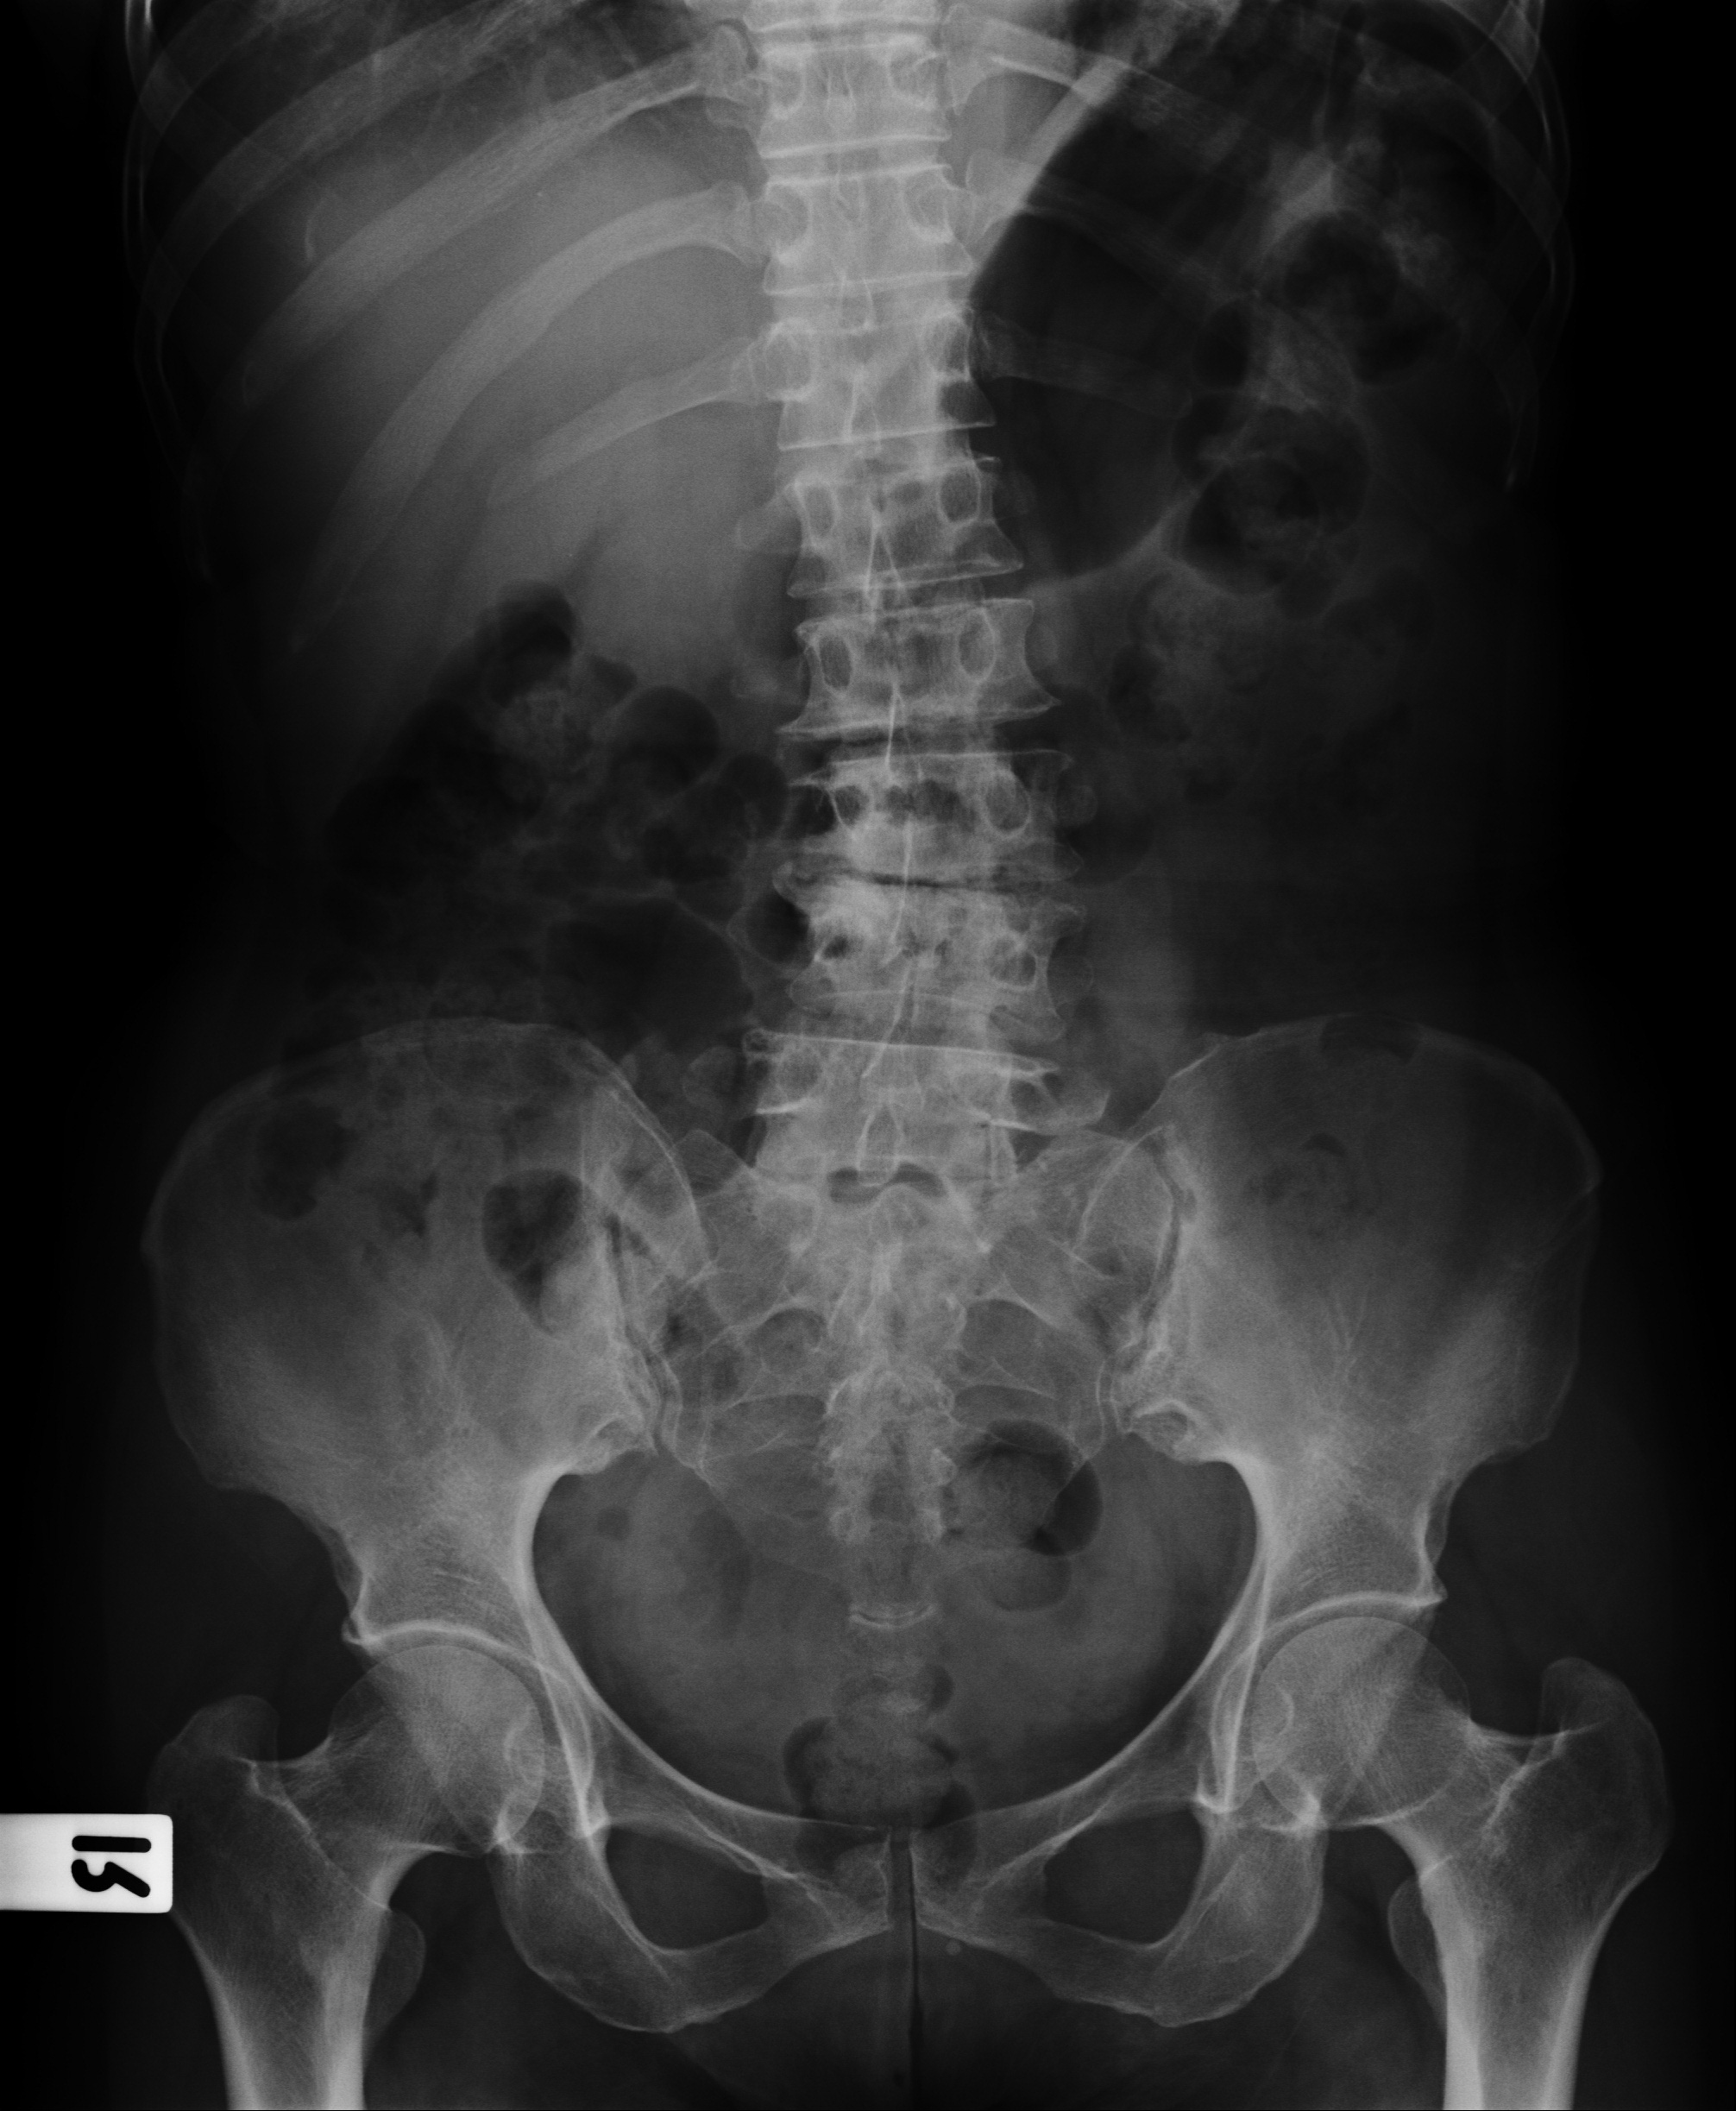lumbar scoliosis: (729, 12, 1071, 1317)
